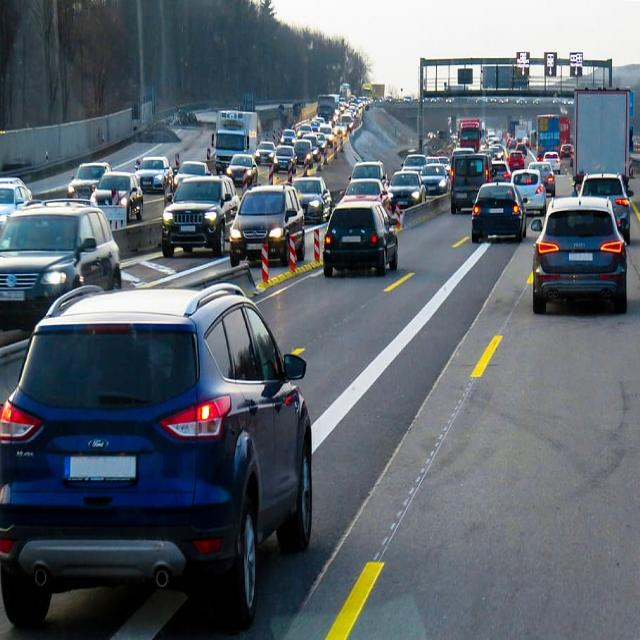Truck: (216, 111, 258, 172)
car: (0, 282, 313, 614), (535, 195, 629, 306), (161, 175, 239, 257), (230, 185, 302, 272), (326, 195, 399, 278), (471, 179, 526, 241), (92, 170, 144, 220), (68, 162, 112, 205), (389, 172, 427, 208), (138, 156, 169, 192)
